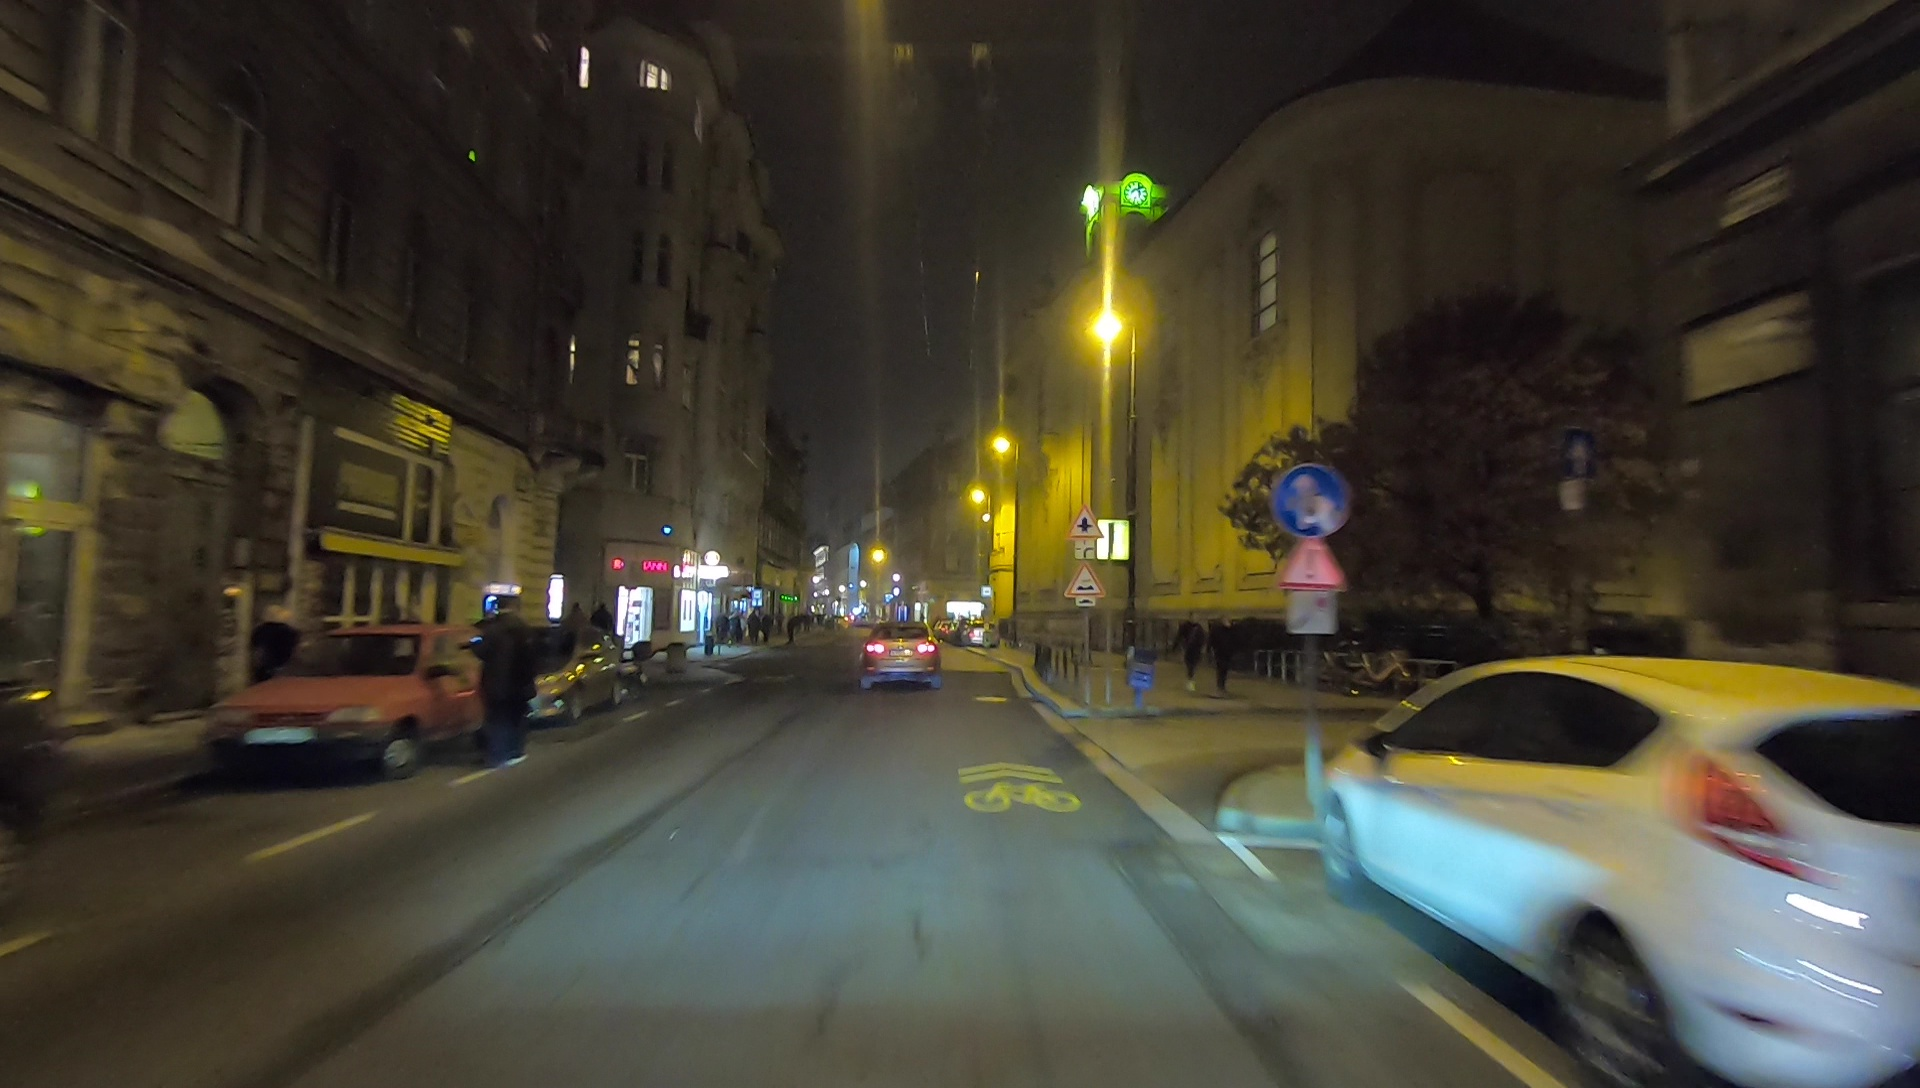person: (480, 610, 530, 765), (251, 610, 302, 697), (1182, 613, 1204, 691), (1214, 615, 1234, 691), (593, 600, 610, 660), (729, 608, 743, 646), (746, 609, 758, 643), (717, 609, 728, 645), (763, 612, 771, 643)
